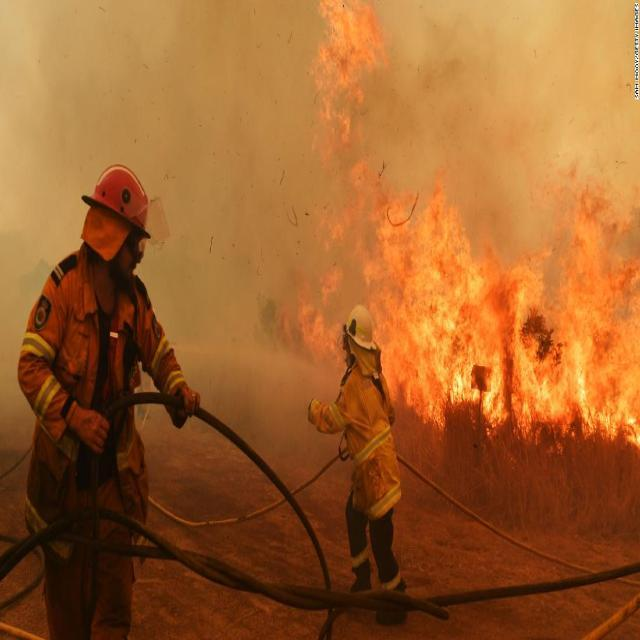Fire: (272, 151, 640, 449), (297, 0, 396, 173)
Smoke: (0, 0, 305, 347), (413, 0, 534, 273)
